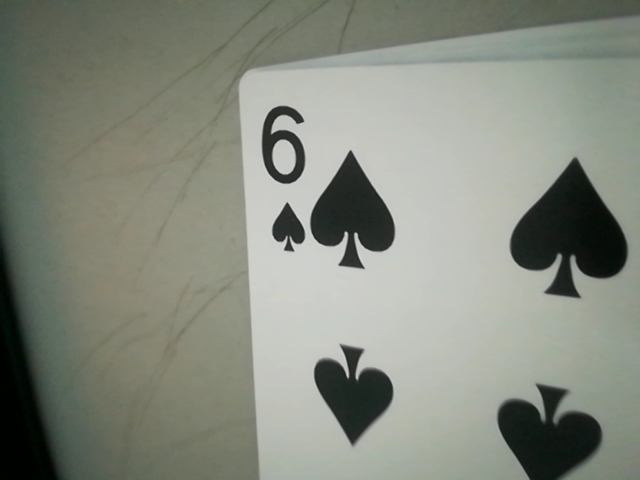ht 6: (248, 90, 319, 264)
